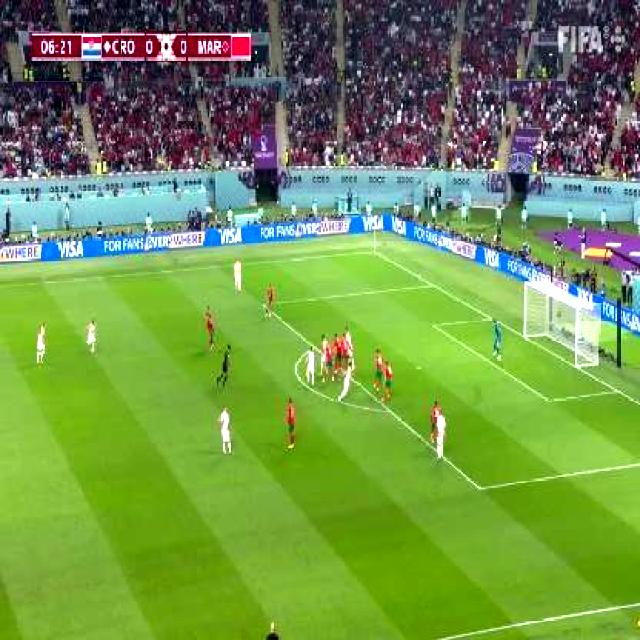bigarea_bottom_inner: (470, 475, 488, 500)
bigarea_top_inner: (257, 296, 269, 312)
bigarea_top_outter: (424, 277, 438, 292)
bottom_arc_area_intersection: (382, 402, 396, 418)
corner: (365, 245, 380, 257)
smallarea_bottom_inner: (540, 388, 557, 410)
smallarea_bottom_outter: (609, 382, 625, 398)
smallarea_top_inner: (426, 315, 440, 334)
smallarea_top_outter: (483, 309, 497, 326)
top_arc_area_intersection: (308, 340, 320, 354)
